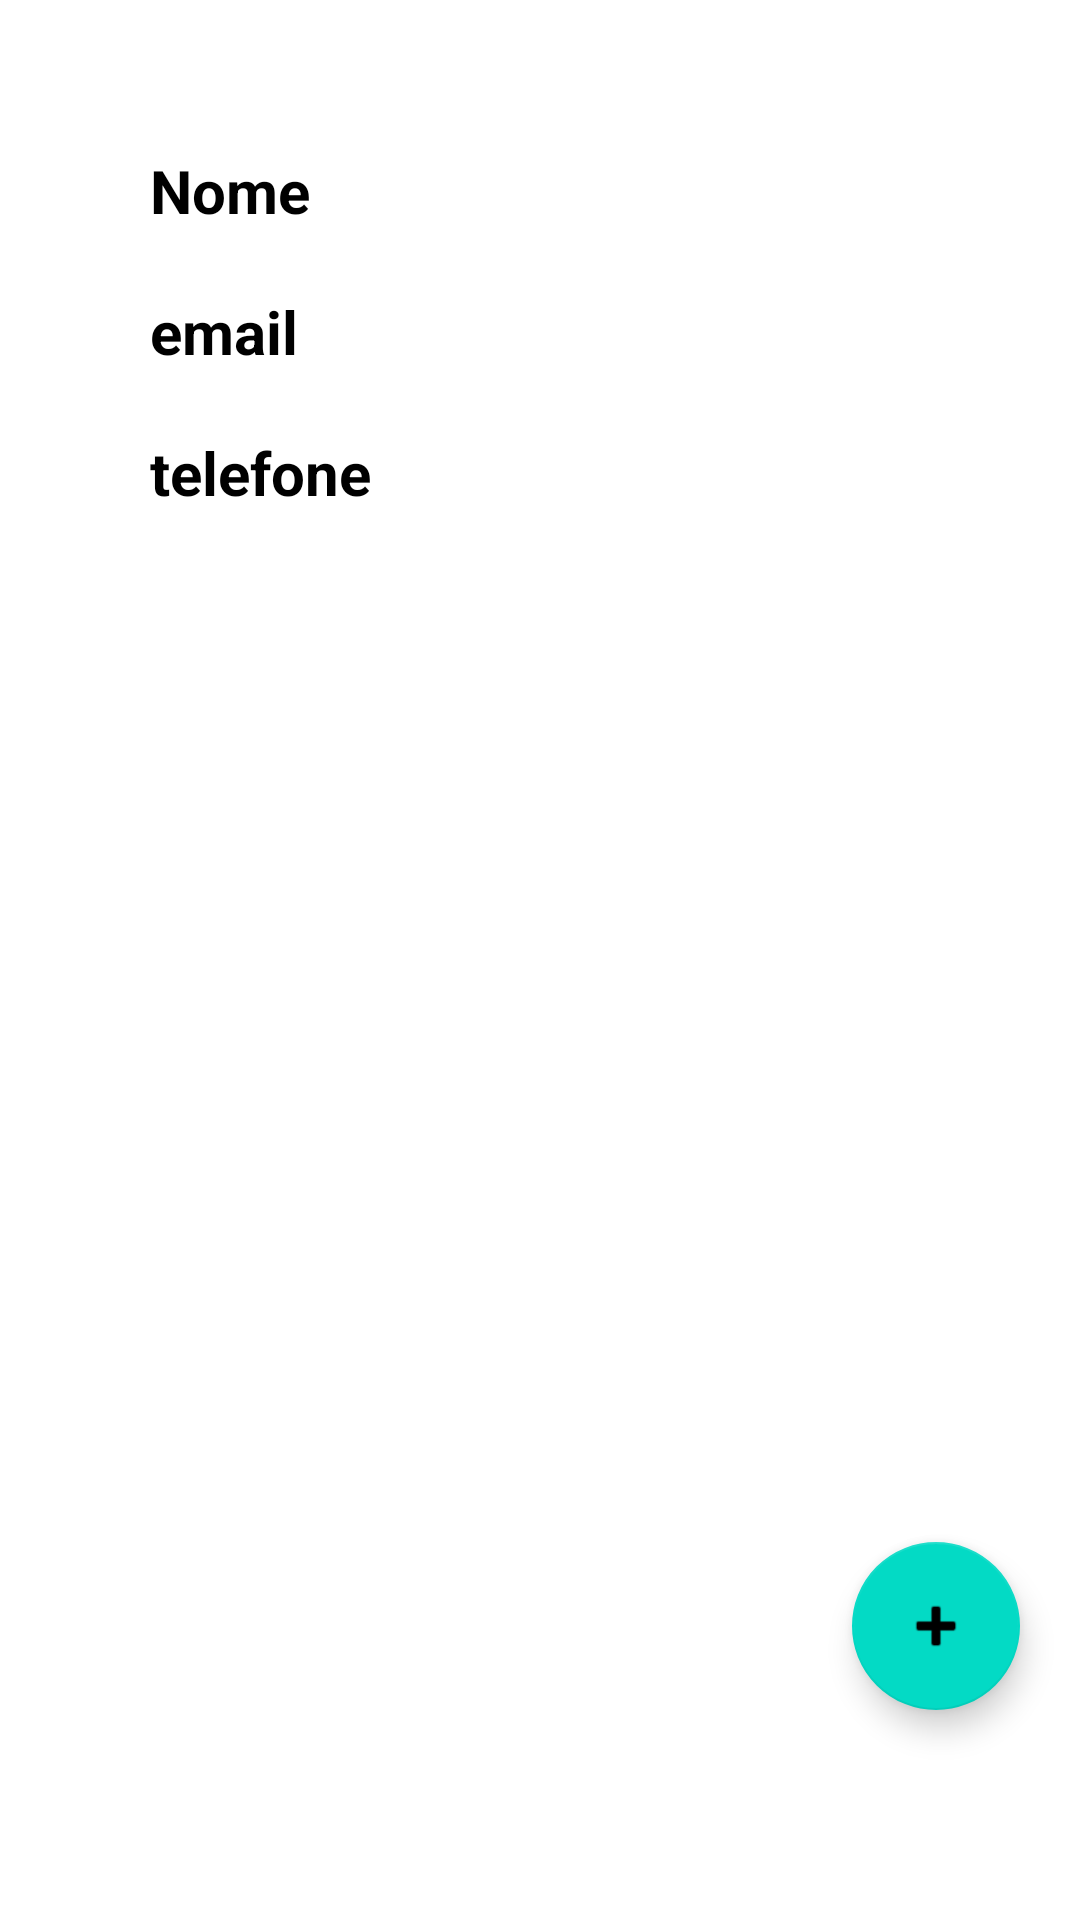

Screen size 1080×1920. Icon name, then its box in pixels as {"x1": x1, "y1": y1, "x2": x2, "y2": y2}:
add: {"x1": 852, "y1": 1542, "x2": 1020, "y2": 1710}
